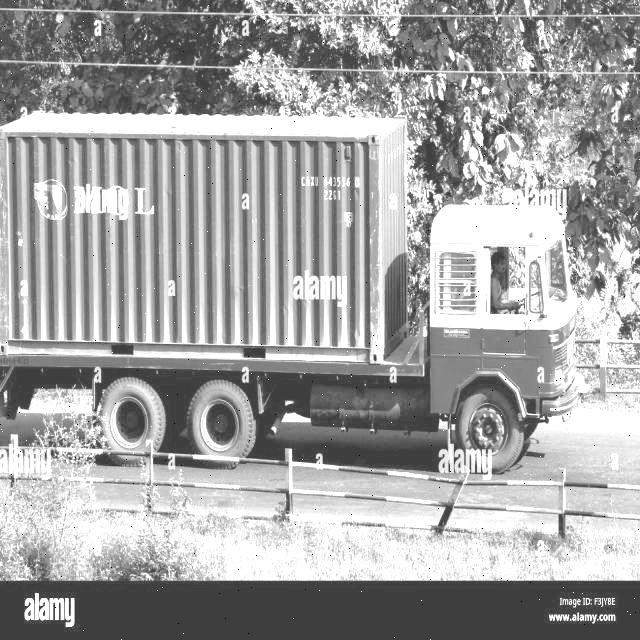HCV: (0, 97, 596, 495)
